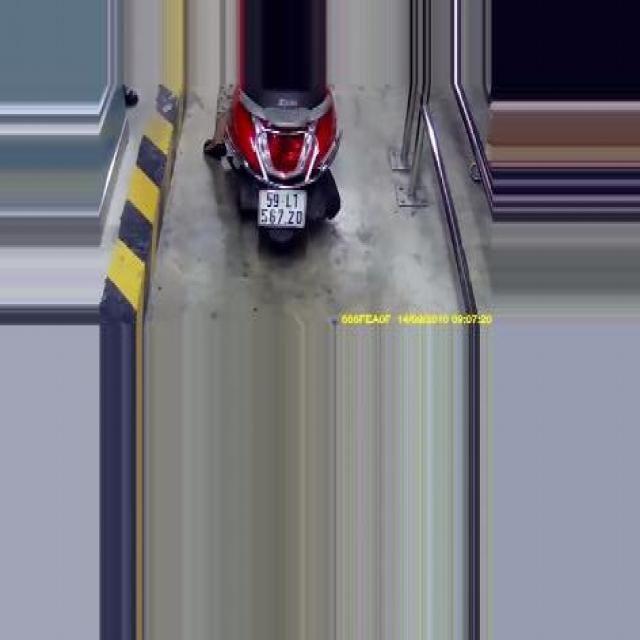License-Plates: (257, 189, 307, 225)
